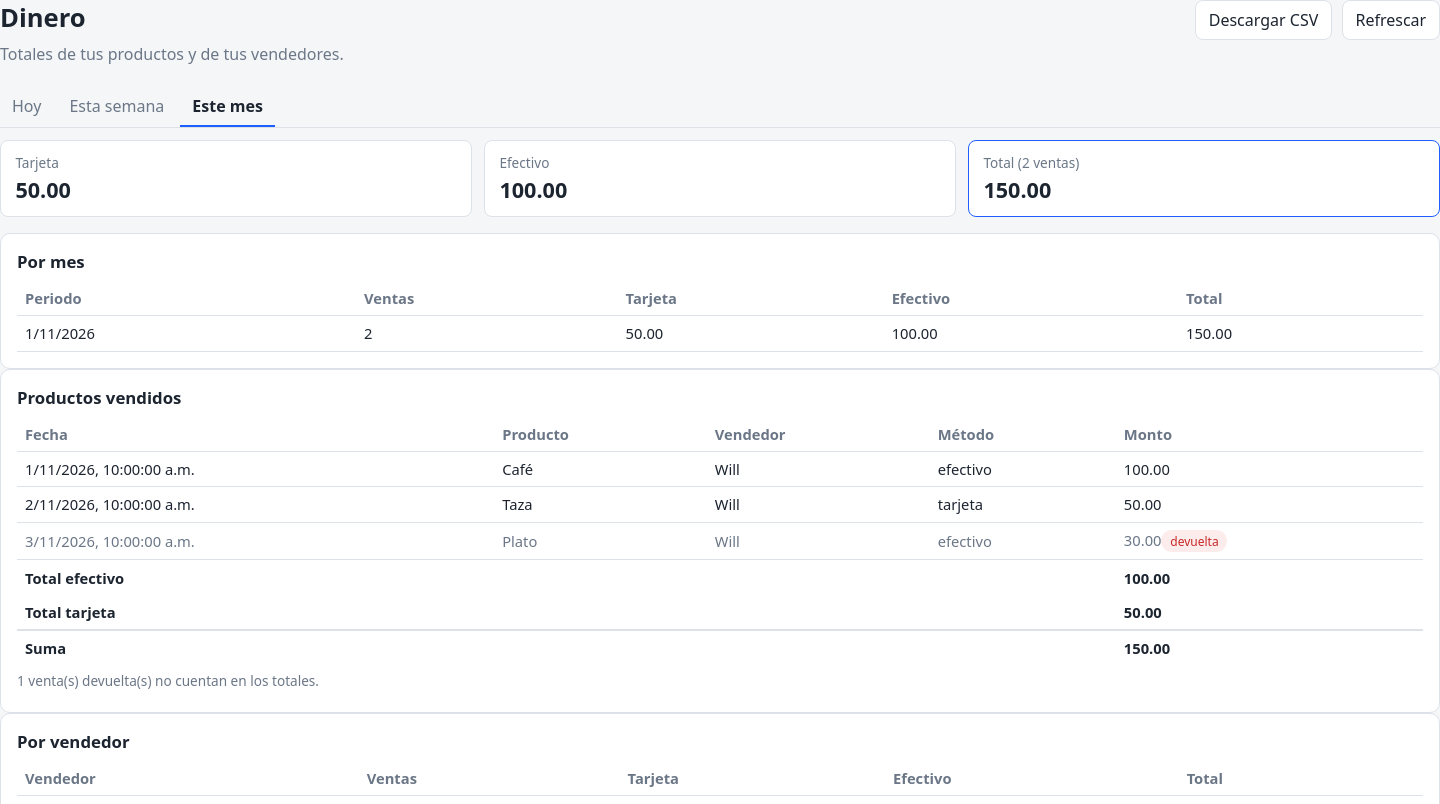
it: Dinero › cambia a Hoy y descarga el CSV
This screenshot has width=1440, height=804.
Expected: the heading "Productos vendidos" is shown, [17,386,182,408]
Click the button "Descargar CSV": (1264, 20) [1195,0,1332,40]
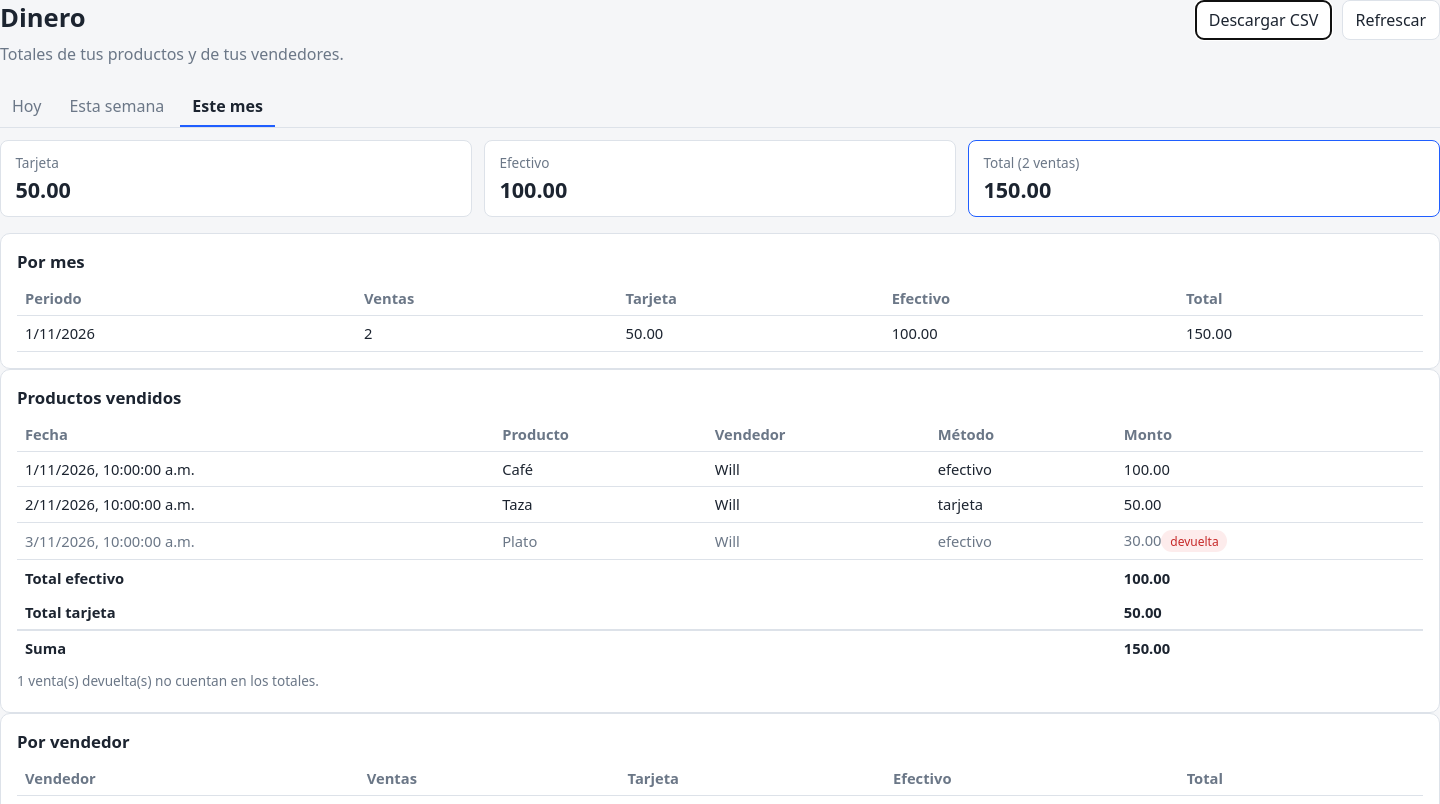
Click the tab "Hoy": (27, 107) [0,87,53,127]
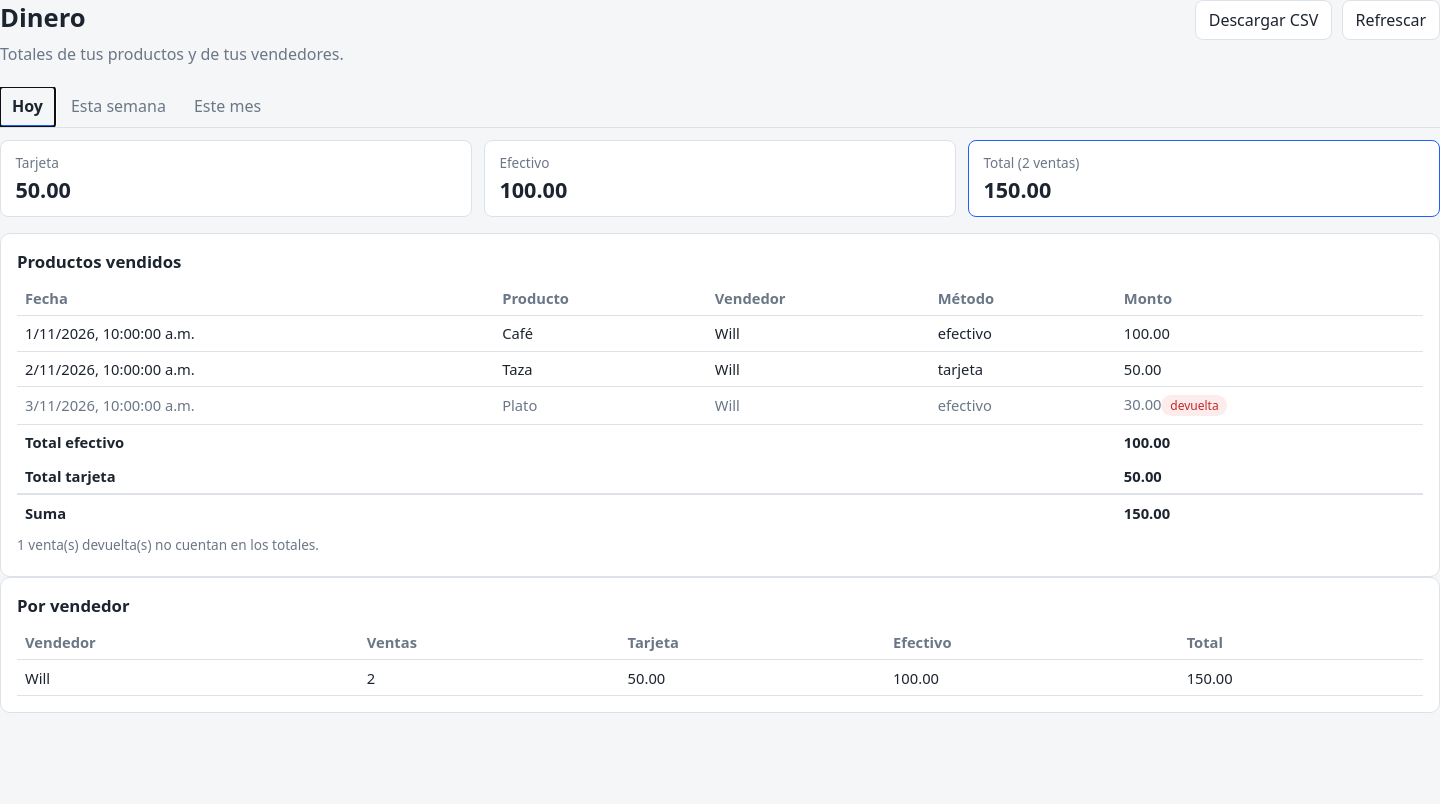
Expected: the heading "Por mes" is gone
